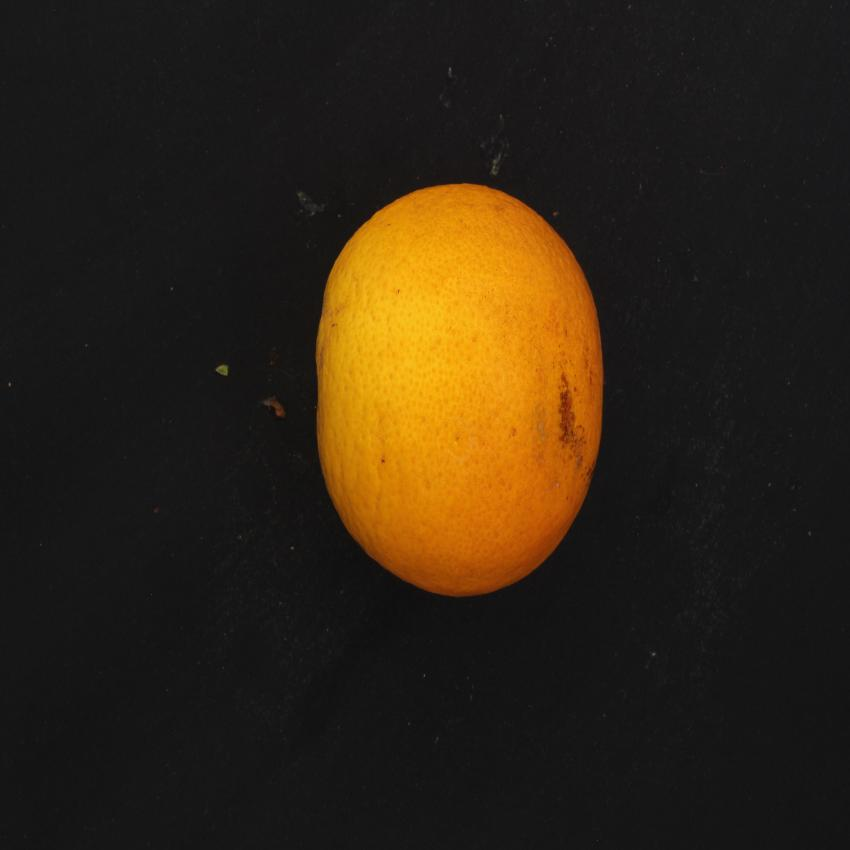Buen estado: (307, 175, 612, 612)
